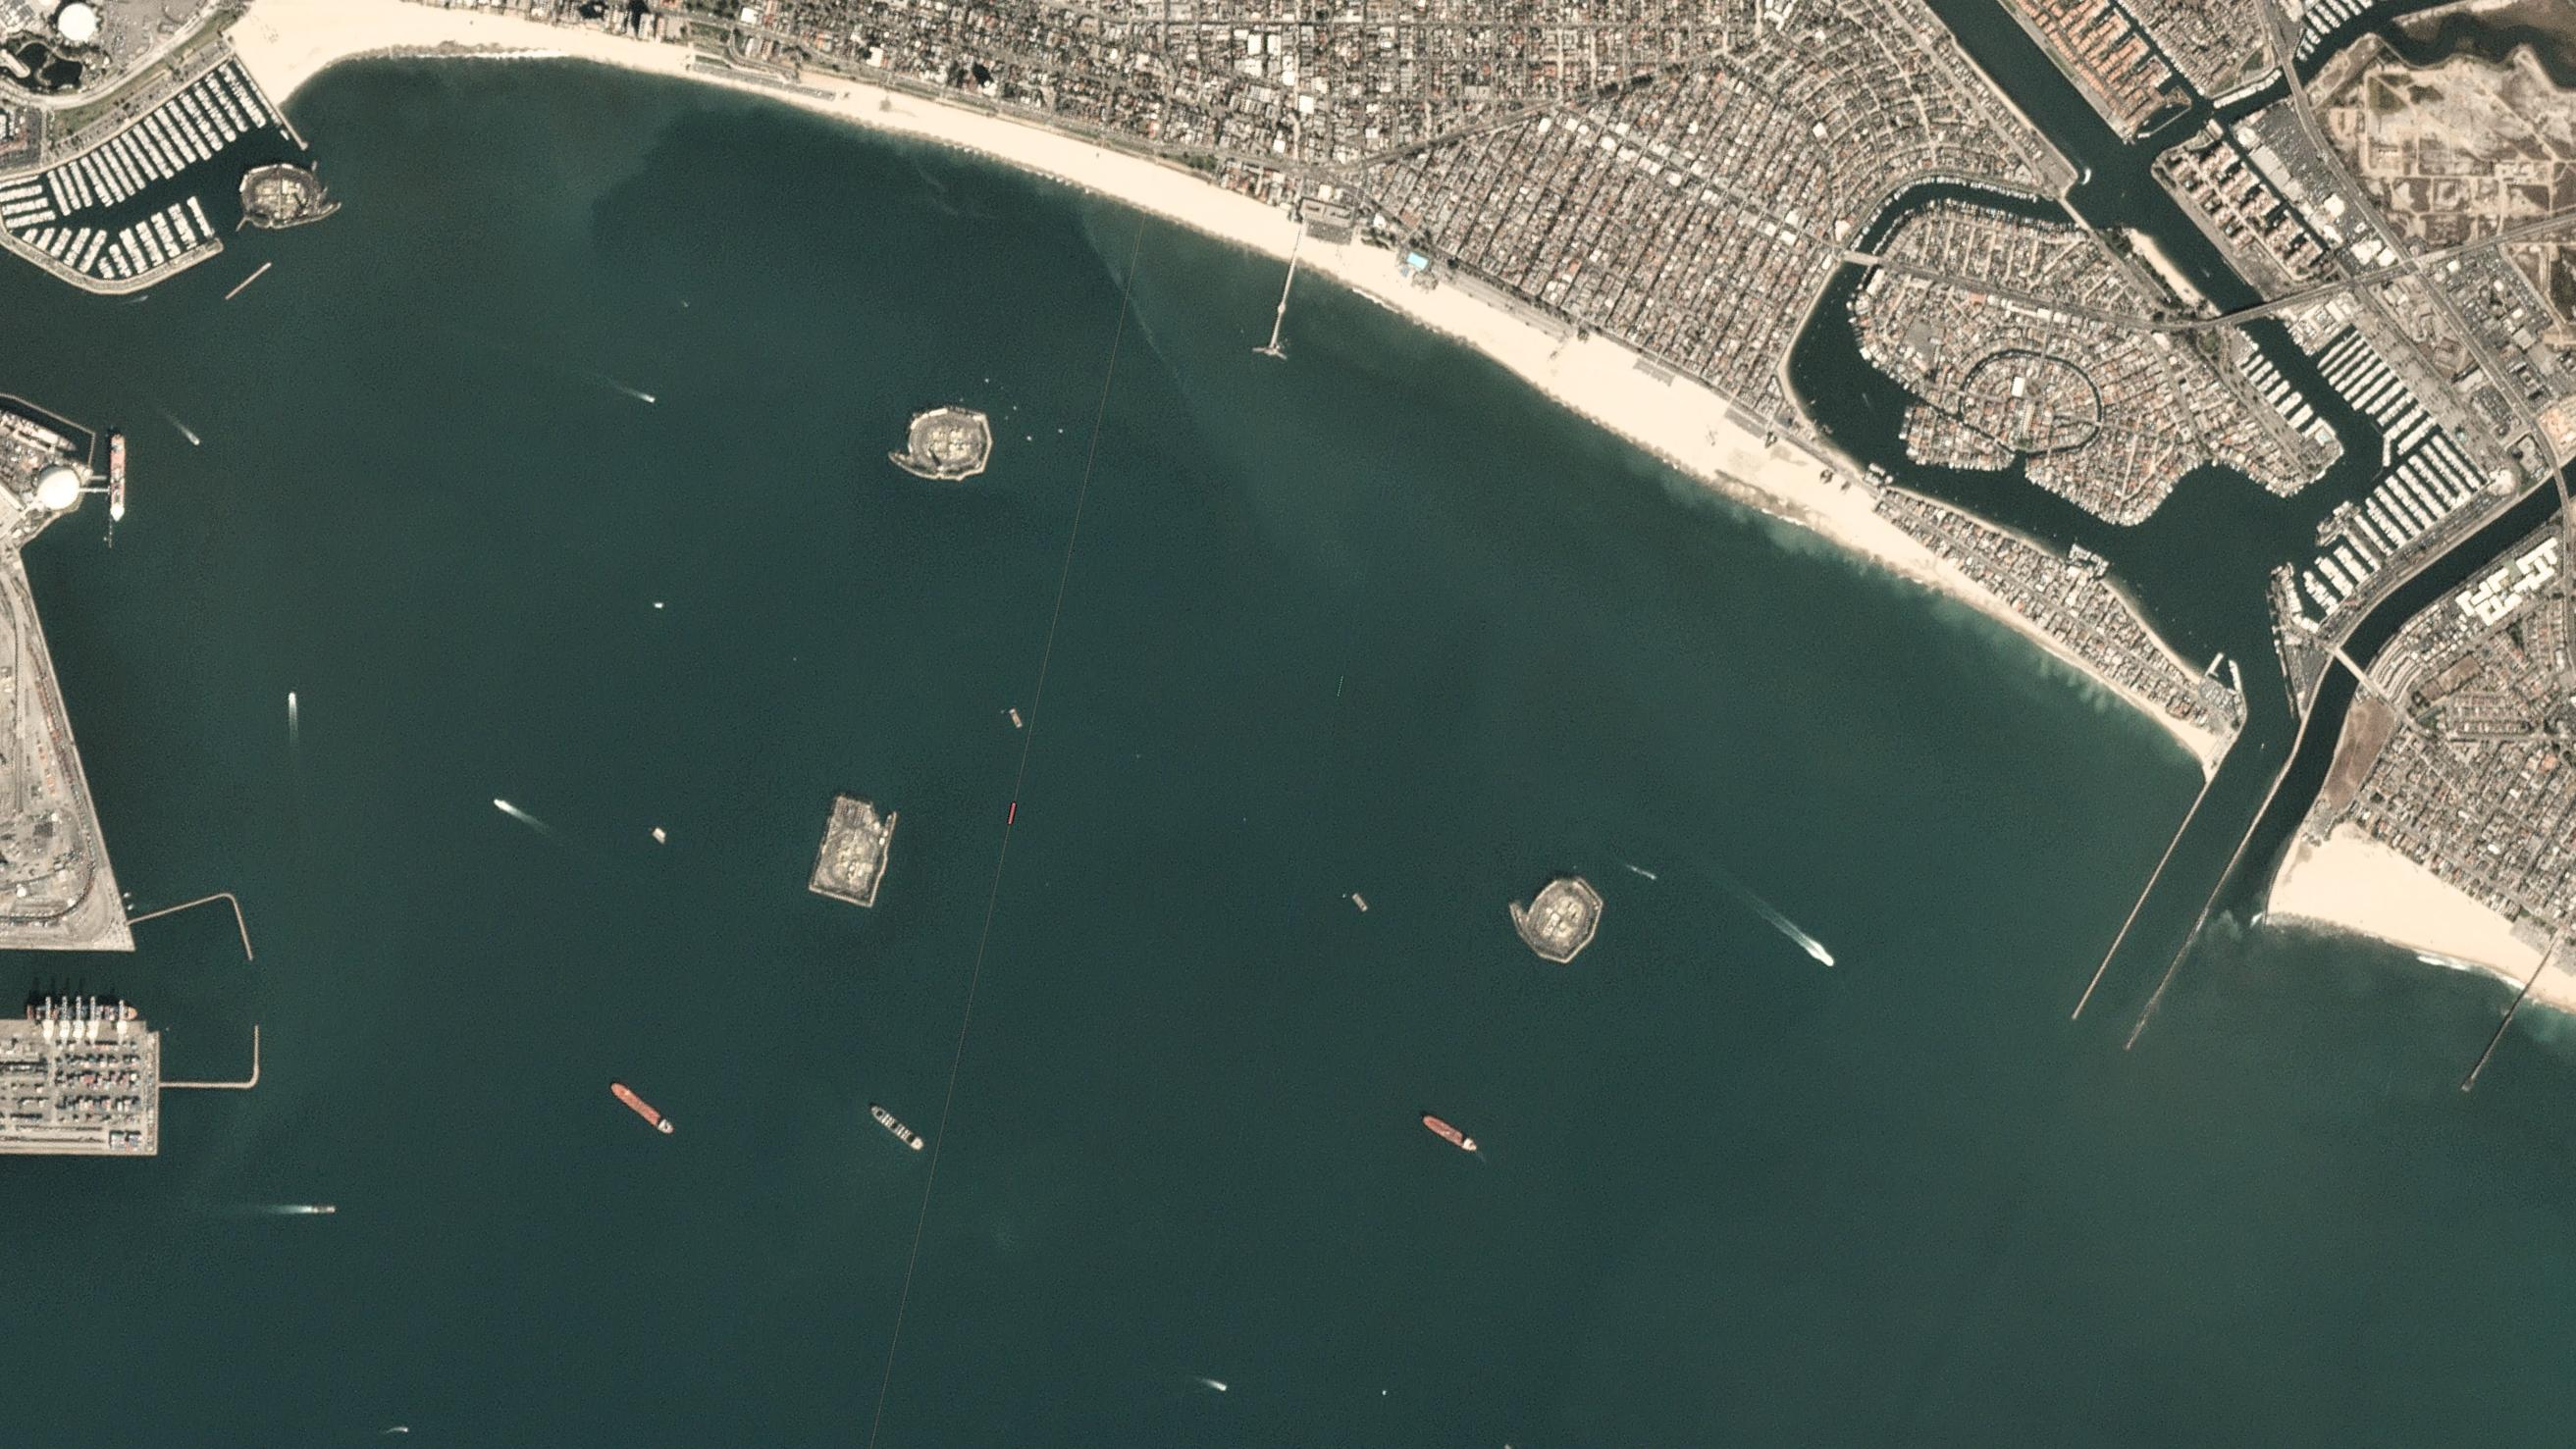ship: (867, 1100, 925, 1155), (616, 1077, 667, 1136), (131, 1111, 193, 1157), (96, 428, 115, 520), (295, 1194, 326, 1210)
